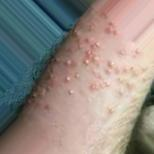Ants: (68, 26, 87, 48), (102, 21, 121, 40), (90, 77, 111, 90), (83, 47, 99, 62), (105, 67, 135, 73), (94, 41, 105, 52), (48, 62, 54, 81), (105, 59, 116, 69), (38, 88, 46, 101), (83, 57, 92, 65), (125, 80, 133, 89), (119, 48, 126, 57), (86, 37, 93, 46), (64, 59, 71, 66), (135, 48, 141, 54), (65, 76, 71, 82), (68, 89, 74, 95), (119, 89, 124, 96), (117, 77, 123, 82), (75, 73, 80, 78)
